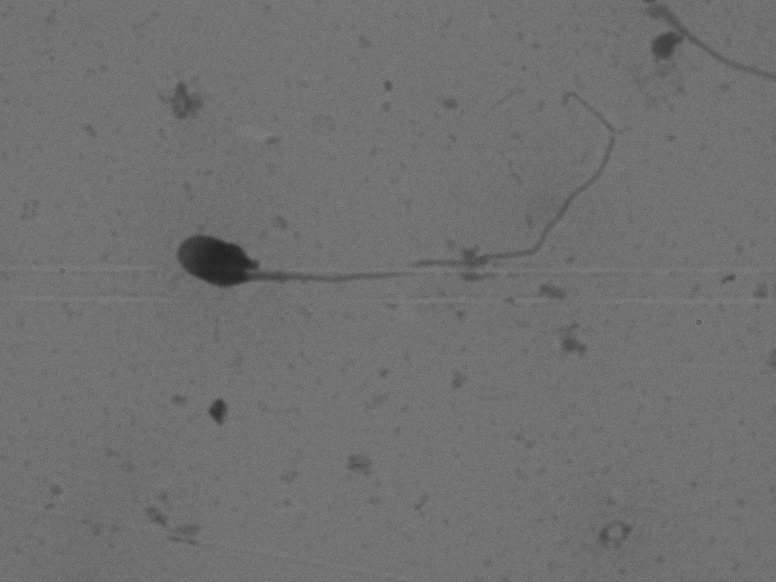Abnormal: (138, 88, 642, 349)
